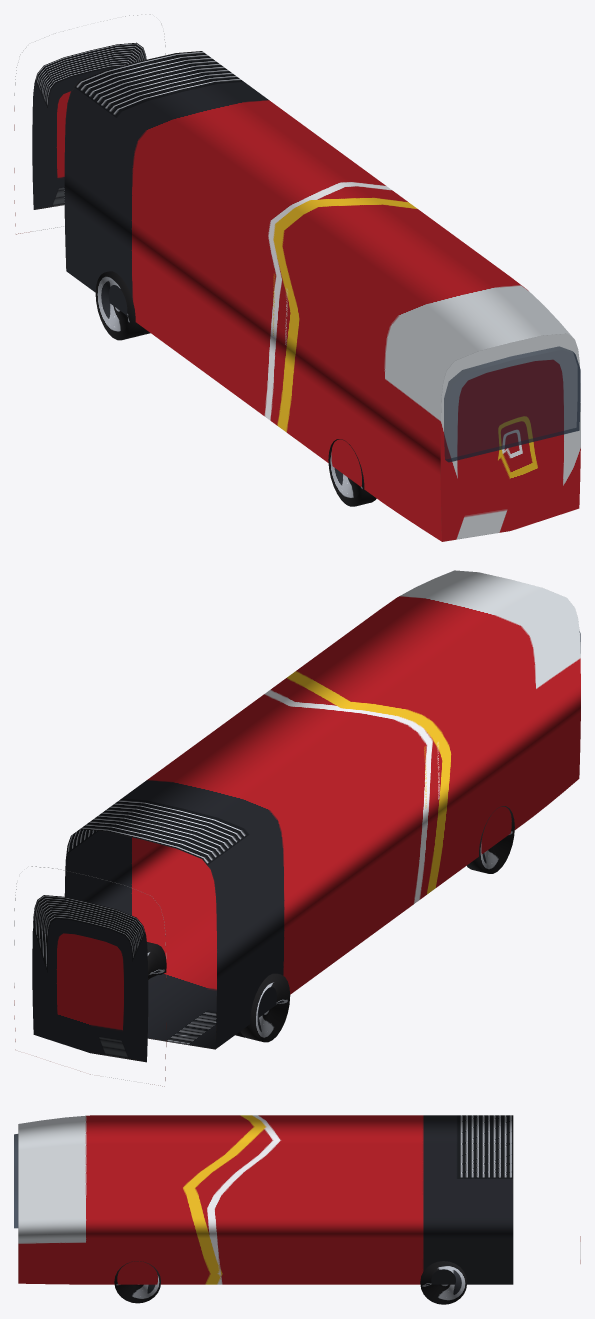
The model's file is IndianIntercityCoach_12M_Hero_LOD1.obj.
3 renders of one model, top to bottom at view 1: azimuth 30°, elevation 25°; view 2: azimuth 150°, elevation 25°; view 3: azimuth 270°, elevation 25°, orthographic. The views are drawn at different scales.
Visible parts, largest first — view 1: Exterior_Body, Exterior_Windshield, Wheels_RearLeftOuter, Wheels_FrontLeft; view 2: Exterior_Body, Wheels_RearLeftOuter, Wheels_FrontLeft; view 3: Exterior_Body, Wheels_RearRightOuter, Wheels_FrontRight, Exterior_Windshield.
Boxes of the visible parts, x1,y1,x2,y2 form: Exterior_Body: [14, 14, 580, 541]; Exterior_Windshield: [444, 346, 580, 462]; Wheels_RearLeftOuter: [95, 271, 145, 340]; Wheels_FrontLeft: [328, 439, 376, 506]; Exterior_Body: [14, 570, 580, 1086]; Wheels_RearLeftOuter: [240, 973, 290, 1042]; Wheels_FrontLeft: [467, 806, 514, 873]; Exterior_Body: [18, 1115, 580, 1284]; Wheels_RearRightOuter: [420, 1261, 466, 1304]; Wheels_FrontRight: [114, 1261, 160, 1303]; Exterior_Windshield: [14, 1134, 18, 1228].
Size of the model in its own units: 2.74 by 3.6 by 12.6.
6 materials, 4 textured.
